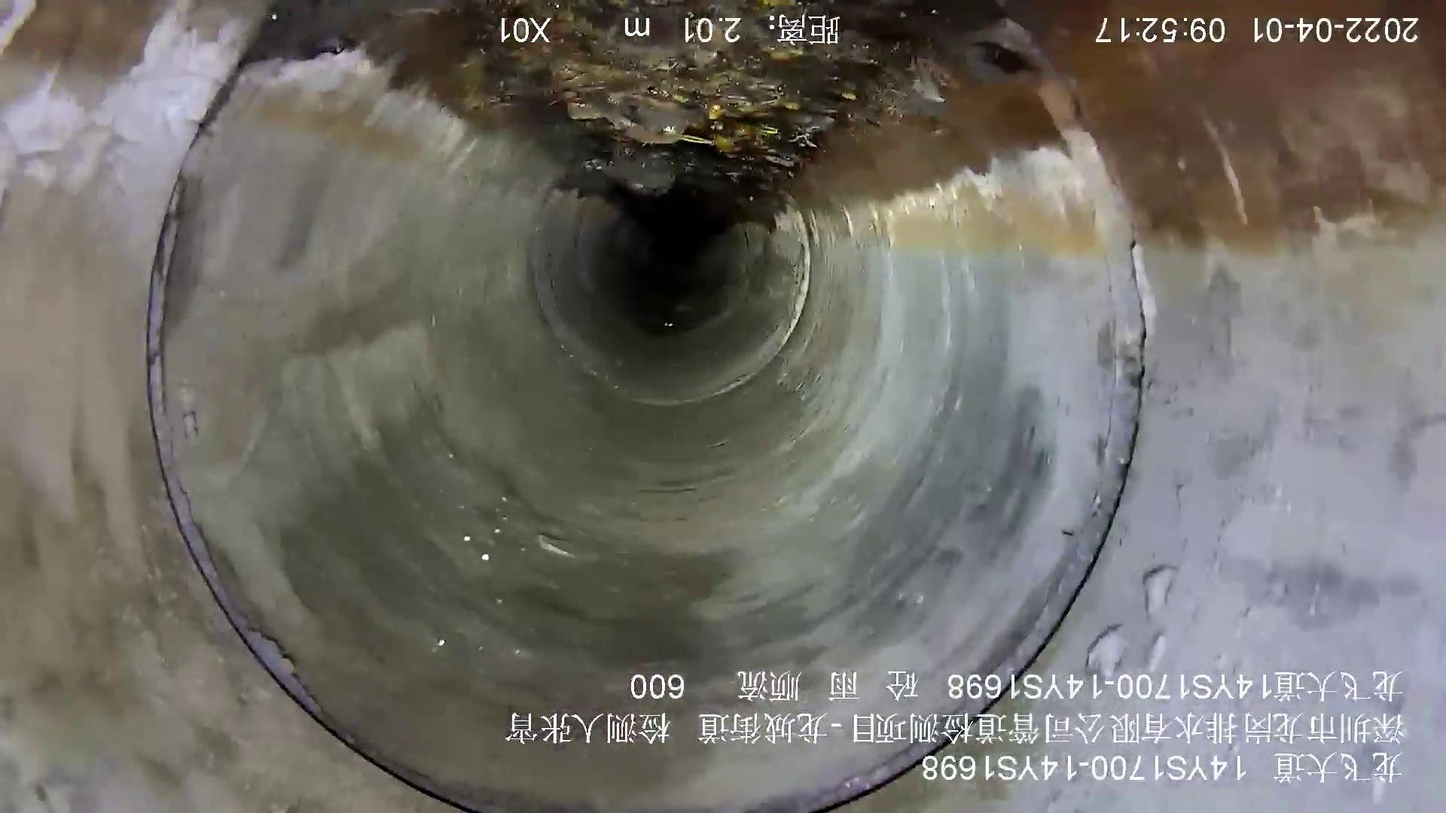CJ: (394, 1, 932, 218)
CKTJ: (746, 21, 1153, 813), (145, 61, 498, 813)
